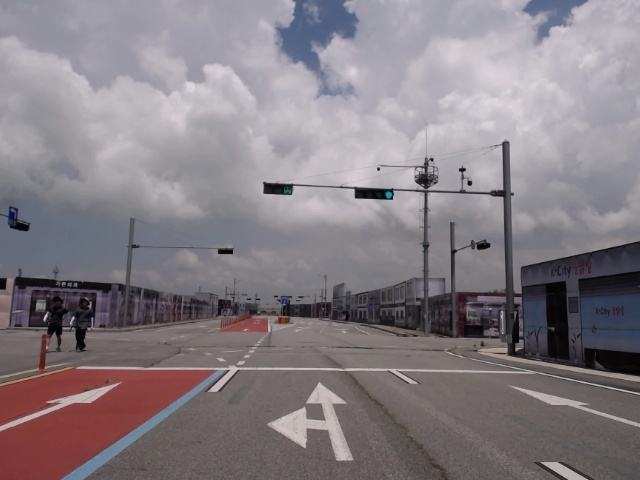straight_green_4: (354, 186, 395, 199)
